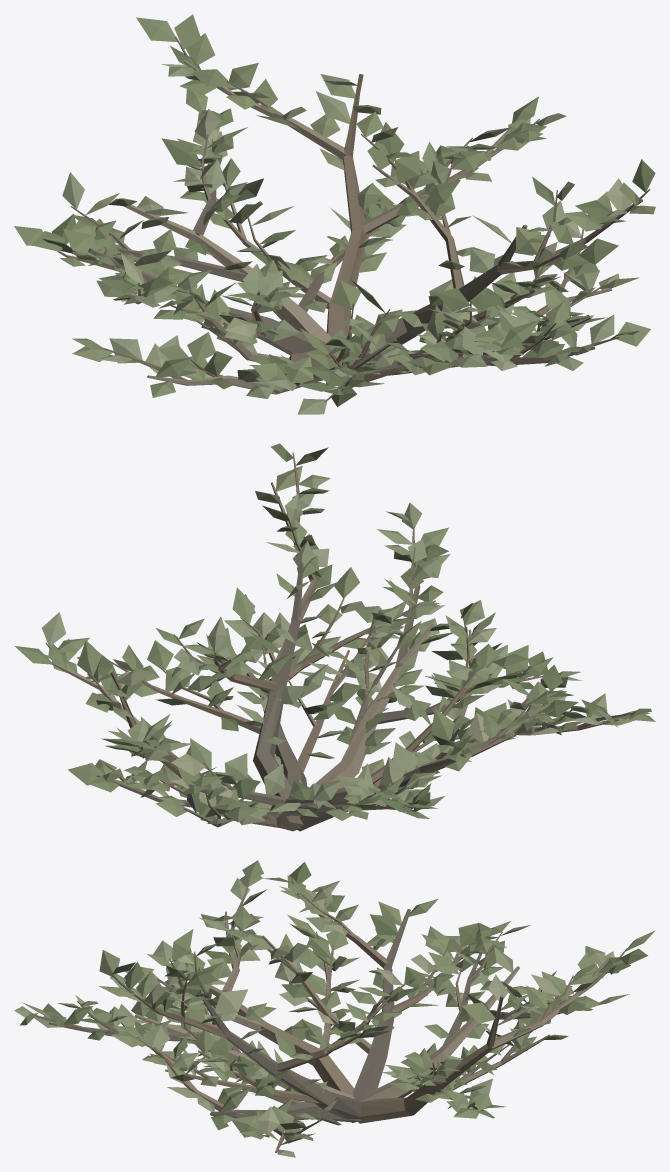
Rendered from valley-cushion.glb.
3 renders of one model, top to bottom at view 1: azimuth 30°, elevation 25°; view 2: azimuth 150°, elevation 25°; view 3: azimuth 270°, elevation 25°, orthographic. The views are drawn at different scales.
Size of the model in its own units: 0.5218 by 0.2381 by 0.6143.
